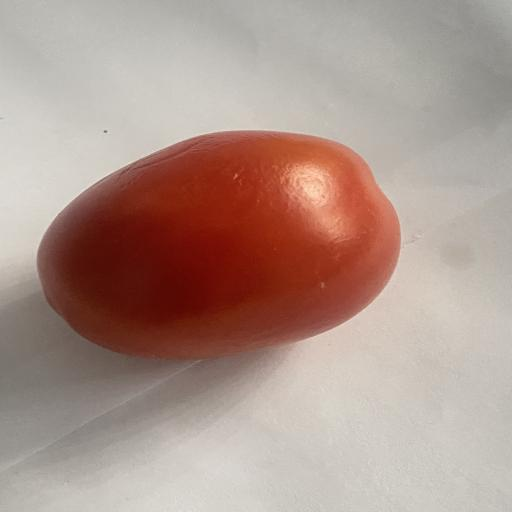overipe: (37, 130, 400, 359)
